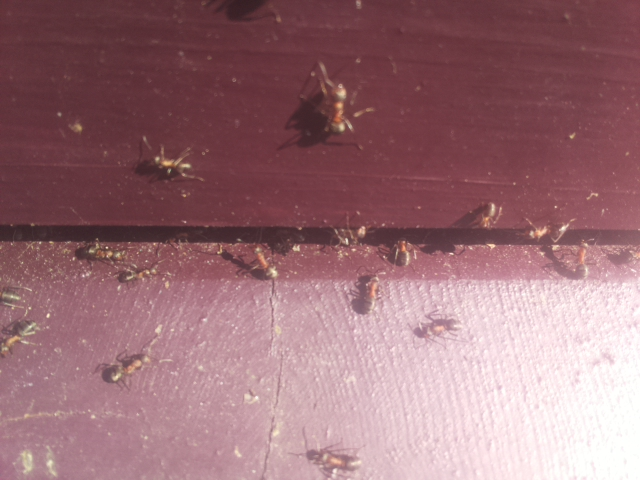ant: (92, 347, 156, 391), (315, 74, 356, 142), (296, 446, 362, 476), (133, 150, 198, 180), (412, 312, 462, 342), (327, 220, 375, 250), (0, 318, 37, 356), (71, 242, 129, 265), (251, 243, 284, 282), (359, 270, 384, 321), (520, 218, 563, 247), (115, 262, 164, 284), (475, 197, 502, 235), (390, 236, 415, 269), (571, 236, 589, 279), (0, 290, 19, 310)
